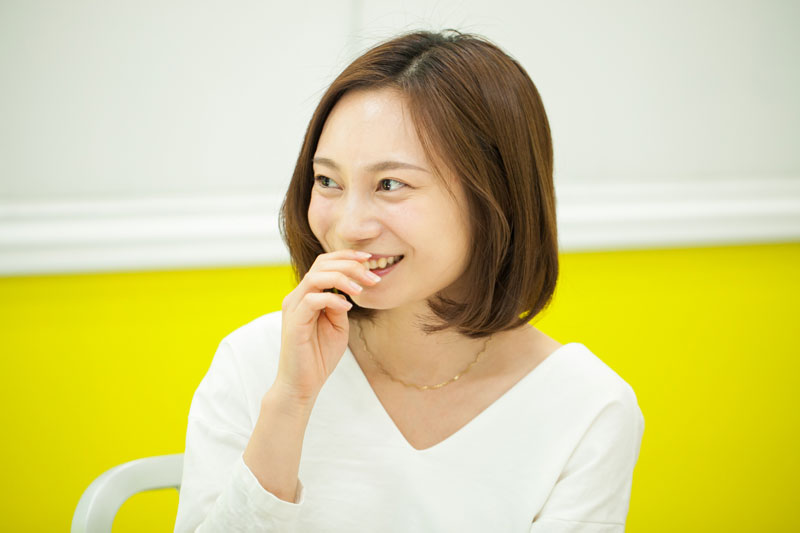face: (307, 82, 475, 306)
hand: (271, 246, 384, 385)
